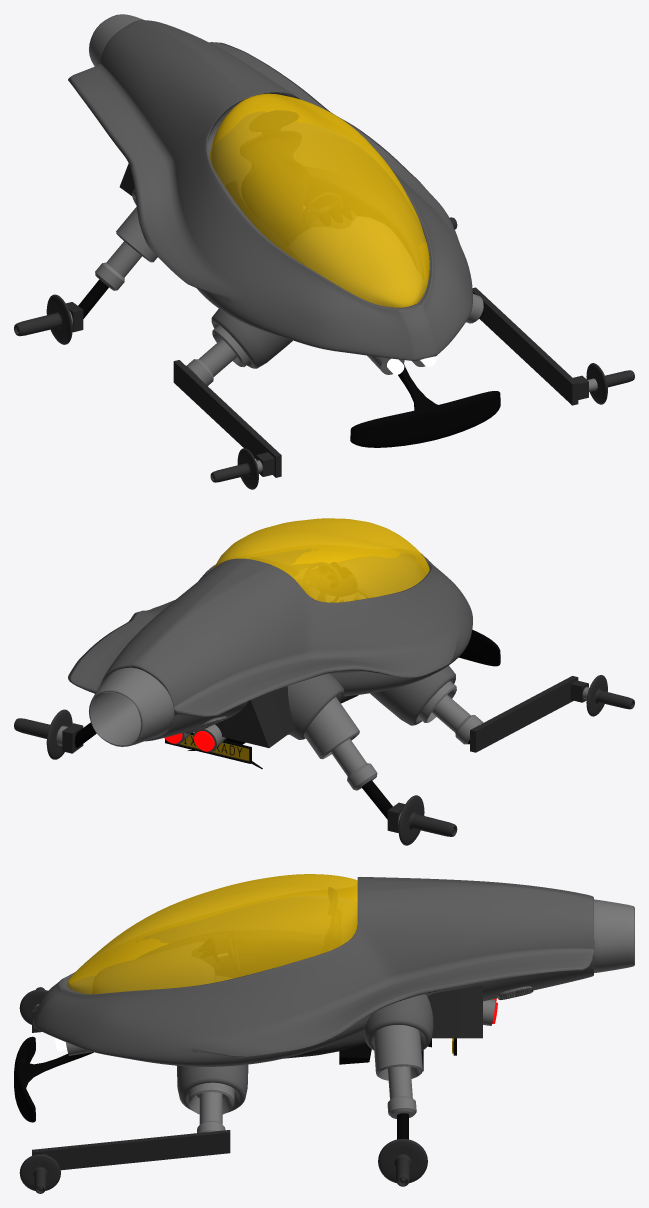
File: space_discoverer.glb
The picture shows the model from 3 angles, top to bottom: view 1: azimuth 30°, elevation 25°; view 2: azimuth 150°, elevation 25°; view 3: azimuth 270°, elevation 25°; orthographic projection. The views are drawn at different scales.
Parts seen in each view (by area): view 1: pCube1, pCube9, pCube7, pCube4, pCube14, pCube11, pCube8, pCylinder11, pCylinder10, pCylinder9, pCylinder23, pCylinder21 (+2 smaller); view 2: pCube1, pCube9, pCube2, pCylinder11, pCube14, pCube16, pCube7, pCylinder8, pCylinder9, pCylinder10, pCylinder23, pCylinder16 (+9 smaller); view 3: pCube1, pCube9, pCube14, pCube8, pCube7, pCylinder11, pCube2, pCube16, pCylinder8, pCylinder9, pCylinder16, pCube11 (+6 smaller).
Boxes of the visible parts, x1=… form: pCube1: x1=68, y1=20, x2=472, y2=360; pCube9: x1=209, y1=93, x2=429, y2=307; pCube7: x1=288, y1=216, x2=424, y2=306; pCube4: x1=240, y1=111, x2=317, y2=245; pCube14: x1=173, y1=287, x2=588, y2=477; pCube11: x1=350, y1=364, x2=500, y2=447; pCube8: x1=225, y1=167, x2=423, y2=278; pCylinder11: x1=95, y1=206, x2=157, y2=290; pCylinder10: x1=186, y1=294, x2=483, y2=385; pCylinder9: x1=211, y1=309, x2=292, y2=368; pCylinder23: x1=14, y1=294, x2=72, y2=344; pCylinder21: x1=210, y1=448, x2=258, y2=489; pCube1: x1=68, y1=548, x2=472, y2=741; pCube9: x1=214, y1=518, x2=429, y2=602; pCube2: x1=89, y1=667, x2=174, y2=746; pCylinder11: x1=304, y1=697, x2=377, y2=790; pCube14: x1=470, y1=676, x2=588, y2=752; pCube16: x1=215, y1=686, x2=295, y2=747; pCube7: x1=293, y1=557, x2=421, y2=601; pCylinder8: x1=287, y1=673, x2=343, y2=739; pCylinder9: x1=370, y1=665, x2=455, y2=725; pCylinder10: x1=418, y1=681, x2=483, y2=744; pCylinder23: x1=398, y1=795, x2=457, y2=845; pCylinder16: x1=14, y1=709, x2=72, y2=759; pCube1: x1=32, y1=877, x2=594, y2=1066; pCube9: x1=67, y1=874, x2=357, y2=994; pCube14: x1=32, y1=1006, x2=230, y2=1170; pCube8: x1=139, y1=931, x2=345, y2=977; pCube7: x1=93, y1=942, x2=214, y2=993; pCylinder11: x1=373, y1=1025, x2=422, y2=1118; pCube2: x1=594, y1=899, x2=634, y2=972; pCube16: x1=427, y1=984, x2=482, y2=1038; pCylinder8: x1=363, y1=994, x2=433, y2=1050; pCylinder9: x1=177, y1=976, x2=248, y2=1112; pCylinder16: x1=378, y1=1139, x2=427, y2=1186; pCube11: x1=14, y1=1036, x2=93, y2=1122.
Size of the model in its own units: 4.51 by 2.28 by 5.71.
Materials: 17 (4 with a texture image).
